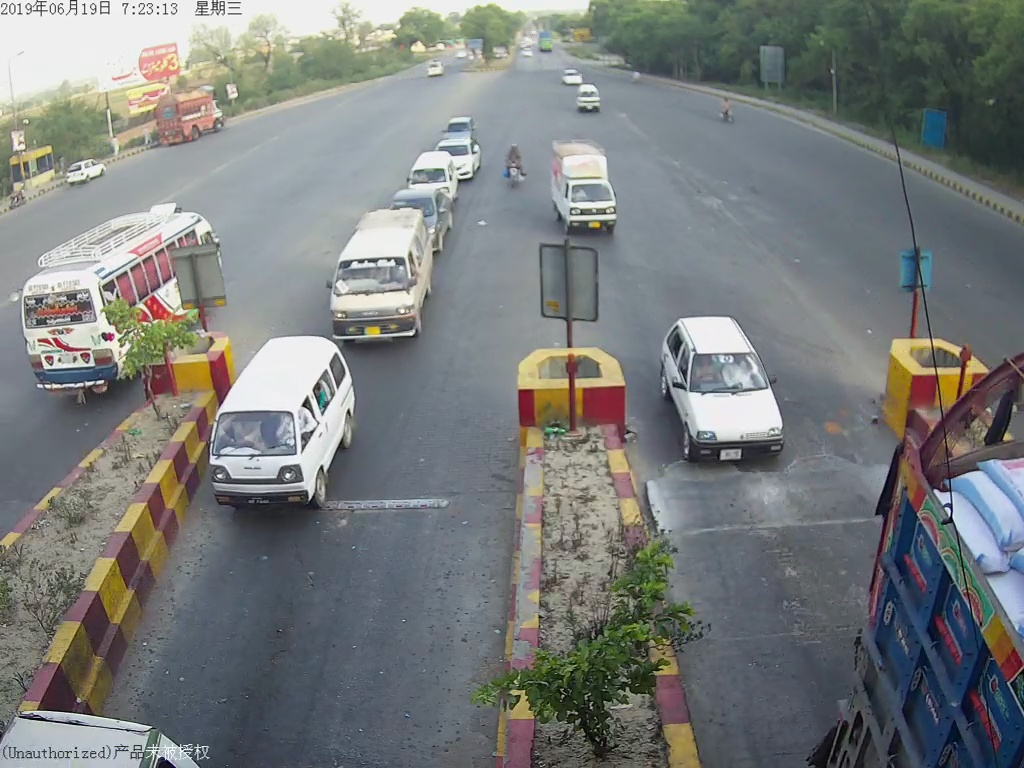Cat-1: (205, 329, 355, 521), (657, 314, 793, 472), (540, 136, 627, 240)
Cat-2: (331, 216, 431, 348)
